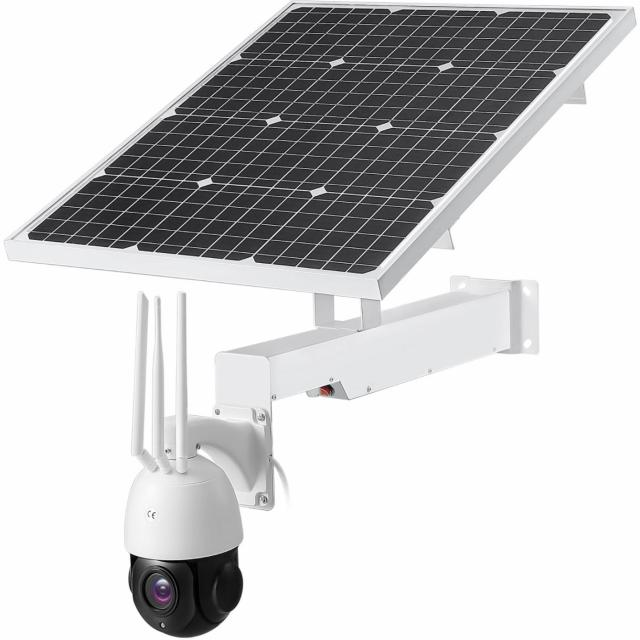no faulty: (16, 5, 617, 269)
